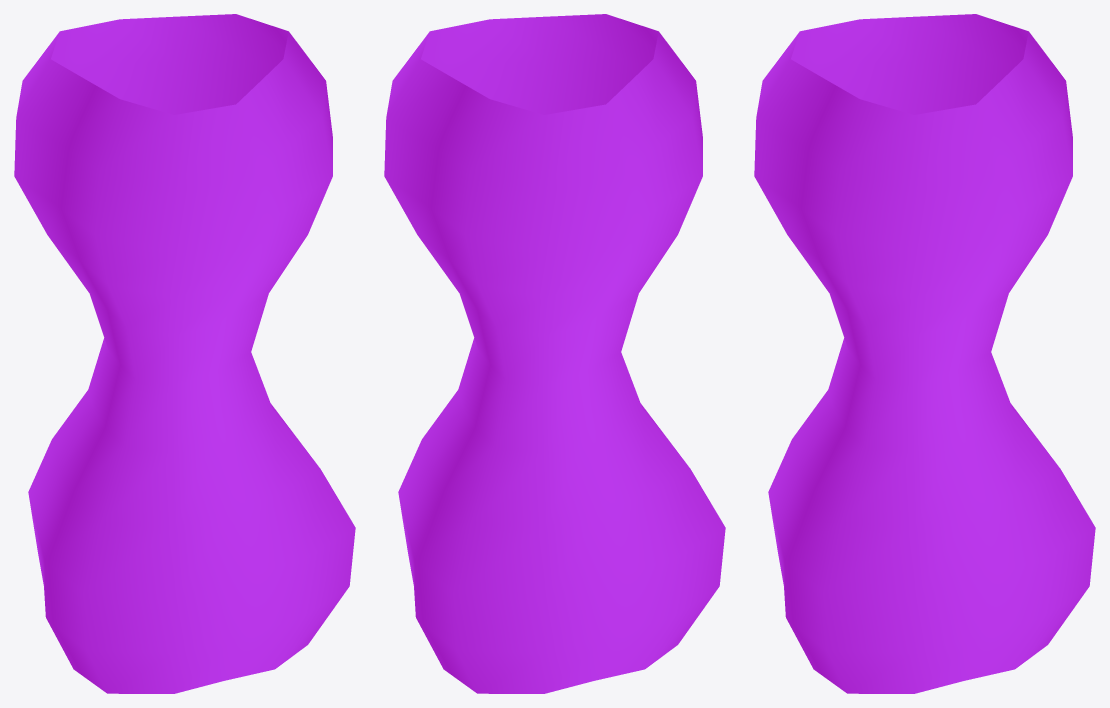
The model's file is obstacle_pillar.glb.
3 views of the same model, side by side, from view 1: azimuth 30°, elevation 25°; view 2: azimuth 150°, elevation 25°; view 3: azimuth 270°, elevation 25° (orthographic).
Size of the model in its own units: 2.63 by 5 by 2.64.
